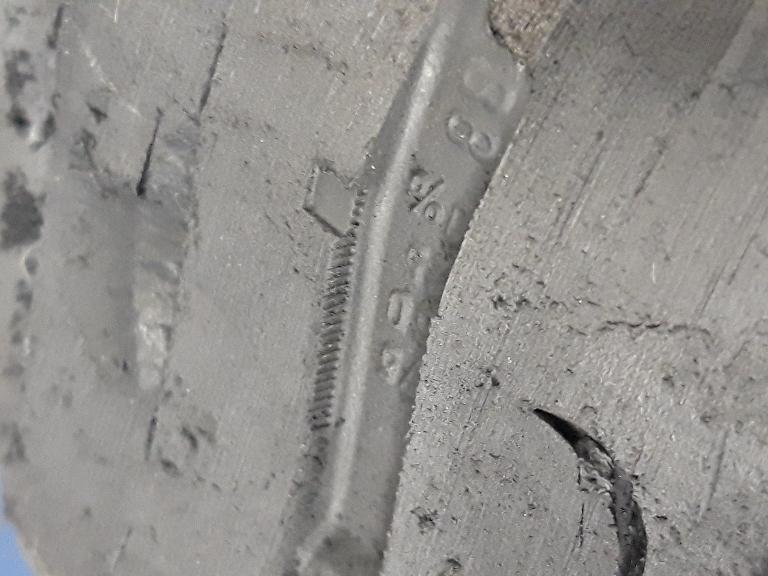temoin:25: (284, 148, 378, 304)
